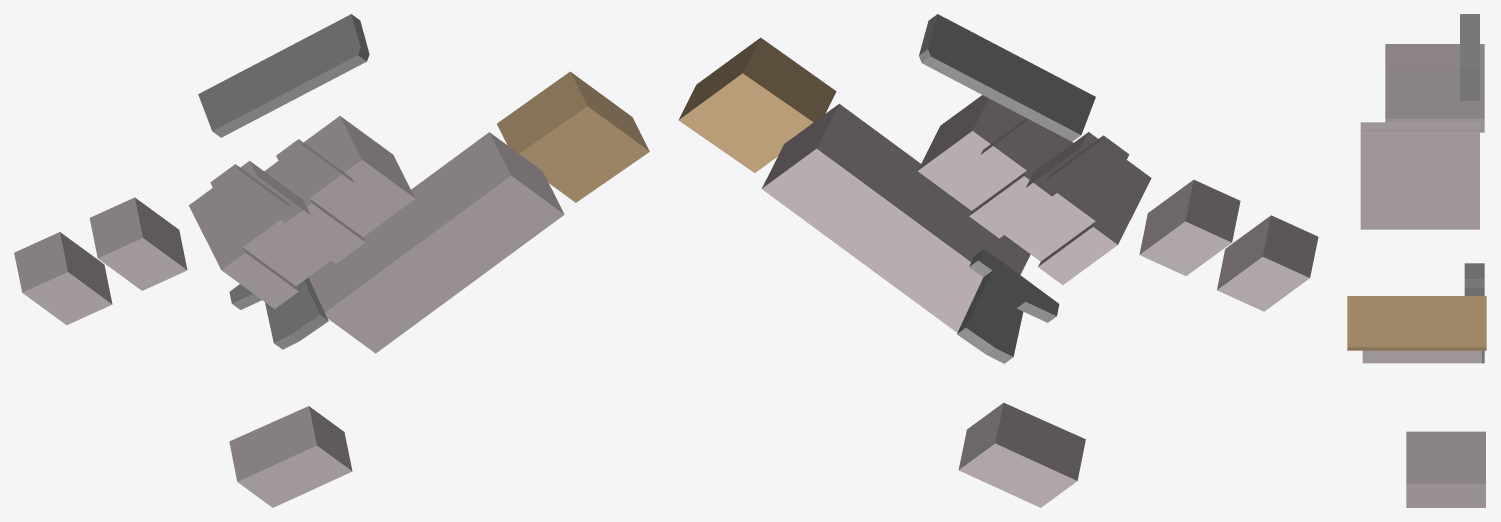
3 renders of one model, left to right at view 1: azimuth 30°, elevation 25°; view 2: azimuth 150°, elevation 25°; view 3: azimuth 270°, elevation 25°, orthographic. The views are drawn at different scales.
Visible parts, largest first — view 1: 0_1_0_2_0_1_3_3; view 2: 0_1_0_2_0_1_3_3; view 3: 0_1_0_2_0_1_3_3.
Part boxes in pixels (x1,y1,x2,y2): 0_1_0_2_0_1_3_3: (14,14,649,507); 0_1_0_2_0_1_3_3: (678,14,1318,507); 0_1_0_2_0_1_3_3: (1347,14,1486,507).
Size of the model in its own units: 112 by 82.37 by 21.
